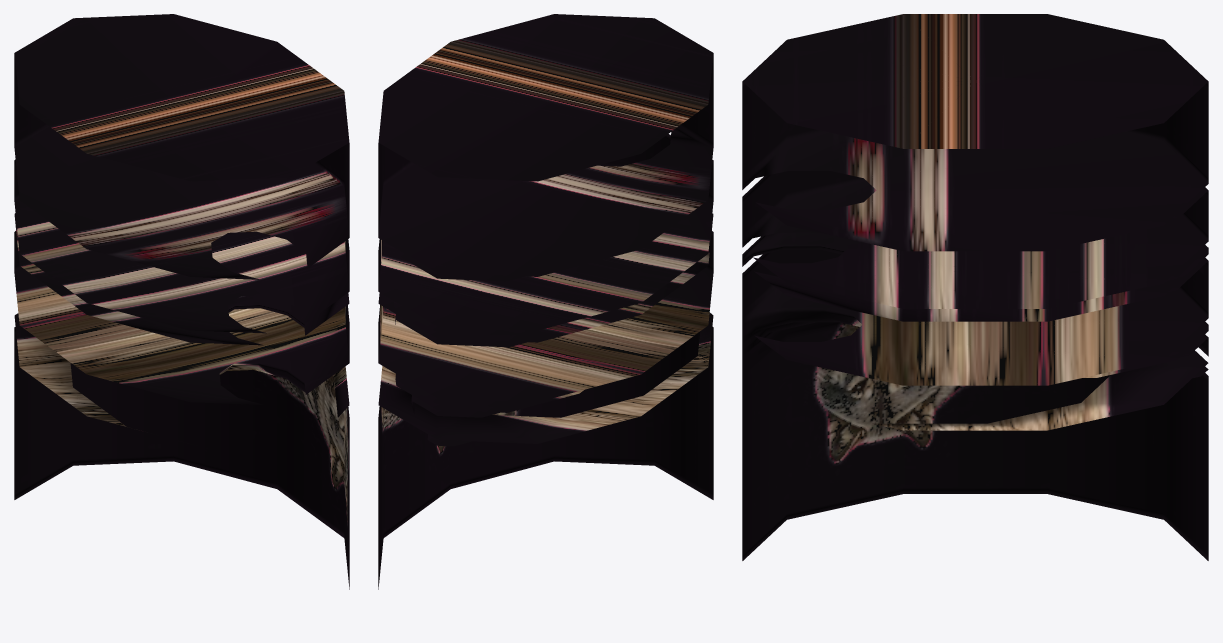
File: wolf.glb
3 renders of one model, left to right at view 1: azimuth 30°, elevation 25°; view 2: azimuth 150°, elevation 25°; view 3: azimuth 270°, elevation 25°, orthographic. The views are drawn at different scales.
Parts seen in each view (by area): view 1: solid; view 2: solid; view 3: solid.
Boxes of the visible parts, bbox=[...] form: solid: bbox=[14, 14, 349, 589]; solid: bbox=[378, 14, 713, 589]; solid: bbox=[742, 14, 1208, 560].
Bounding box in the file's own units: 0.6026 × 1 × 0.88.
Materials: 1 (1 with a texture image).
